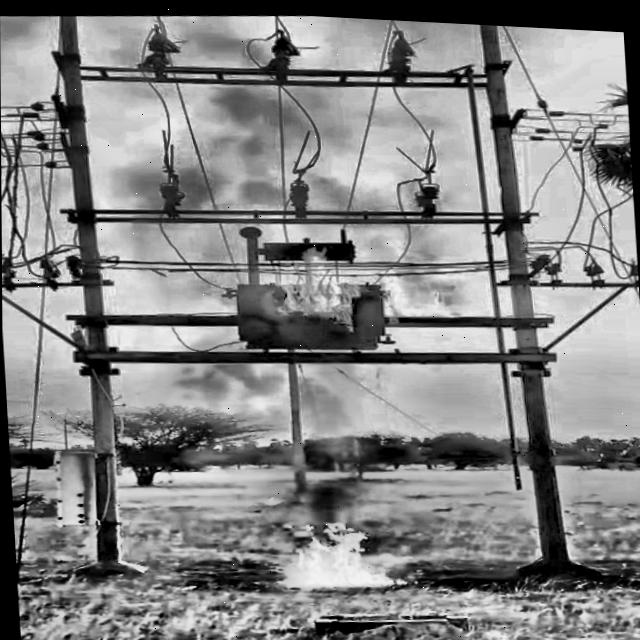Fire: (252, 228, 405, 354), (264, 504, 424, 596)
